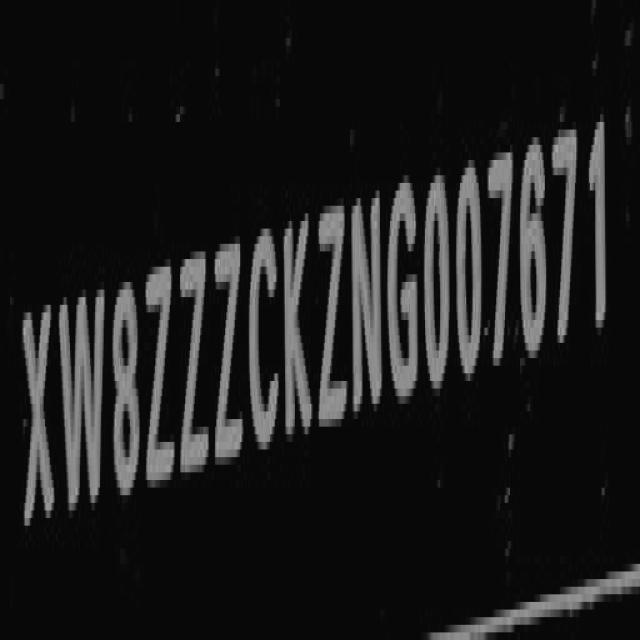0: (455, 135, 482, 398), (422, 164, 452, 398)
1: (587, 115, 610, 372)
6: (519, 127, 546, 373)
7: (486, 144, 514, 384), (552, 122, 578, 376)
8: (112, 274, 142, 508)
C: (247, 217, 282, 457)
G: (386, 170, 421, 406)
K: (282, 189, 312, 452)
N: (350, 178, 384, 429)
W: (58, 285, 104, 519)
X: (22, 304, 56, 528)
Z: (316, 178, 350, 437), (211, 226, 245, 463), (143, 254, 176, 497), (178, 240, 209, 485)
